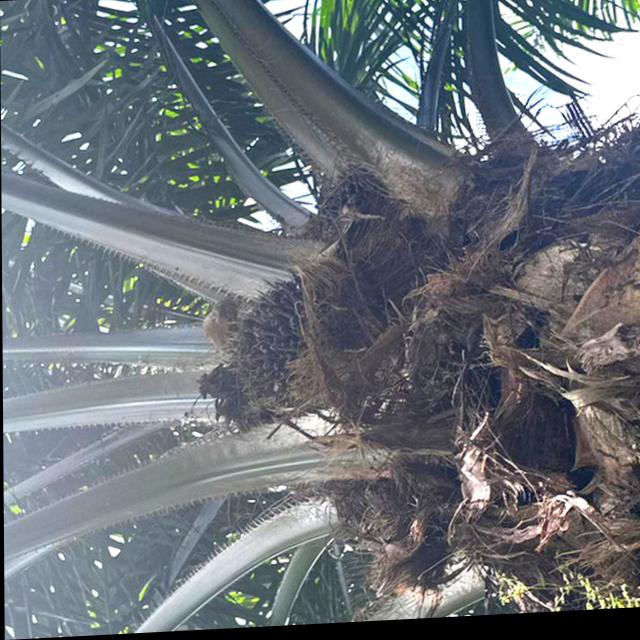almost: (220, 268, 361, 430)
